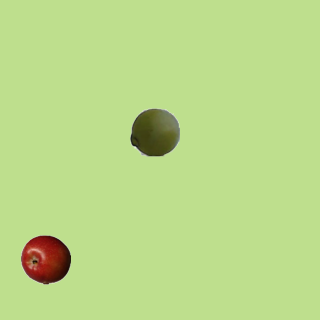Apple Braeburn: (20, 234, 70, 284)
Grape White 4: (129, 106, 179, 156)
